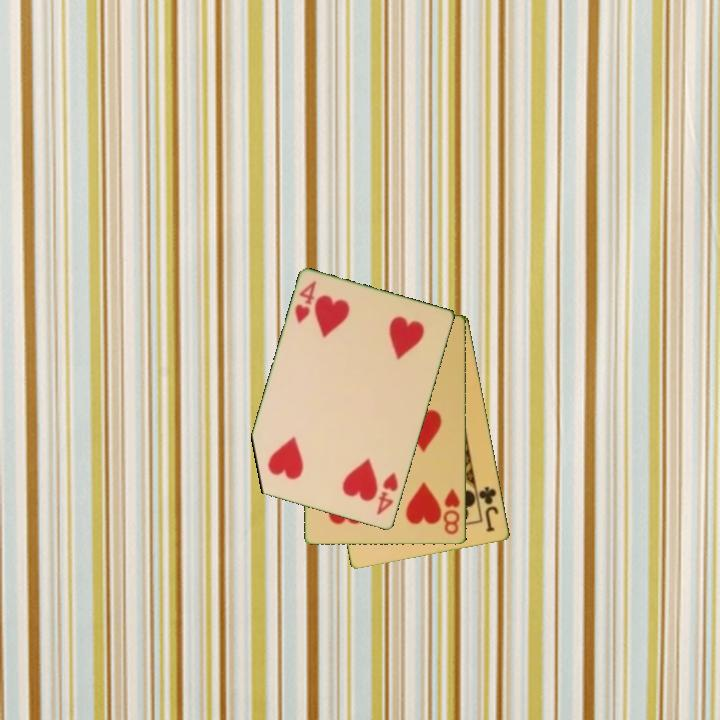4h: (291, 277, 320, 326), (374, 469, 401, 518)
8h: (440, 485, 463, 537)
Jc: (475, 483, 502, 535)
